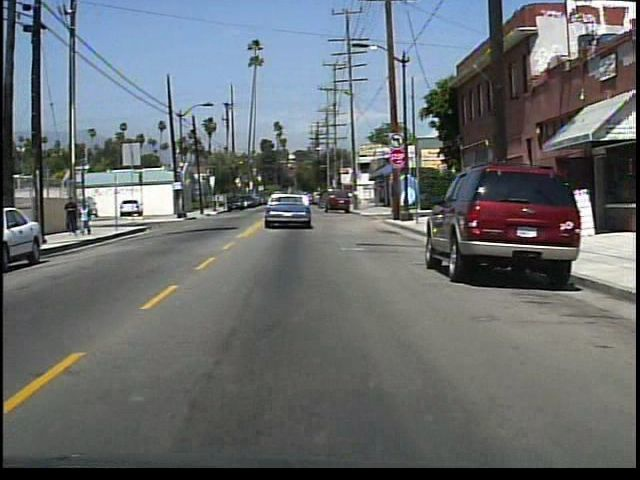person: (65, 194, 82, 235), (79, 201, 96, 237)
